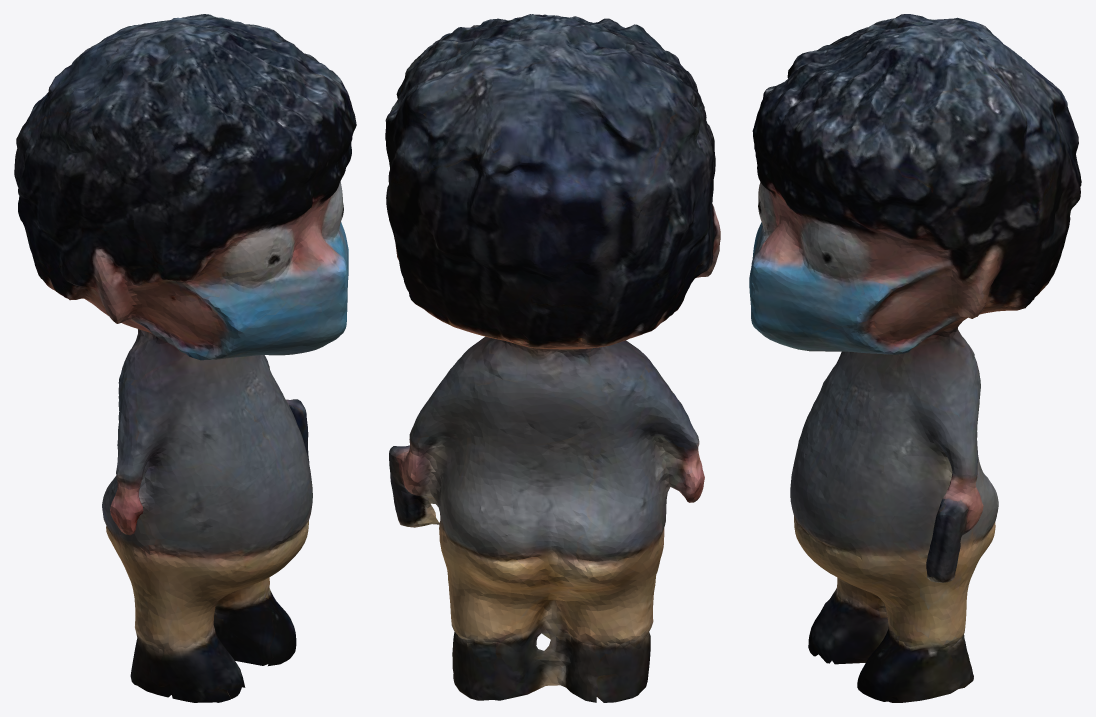
File: Tetsuya good-2048.glb
3 renders of one model, left to right at view 1: azimuth 30°, elevation 25°; view 2: azimuth 150°, elevation 25°; view 3: azimuth 270°, elevation 25°, orthographic. The views are drawn at different scales.
Bounding box in the file's own units: 0.0474 × 0.0968 × 0.0466.
Materials: 1 (1 with a texture image).
